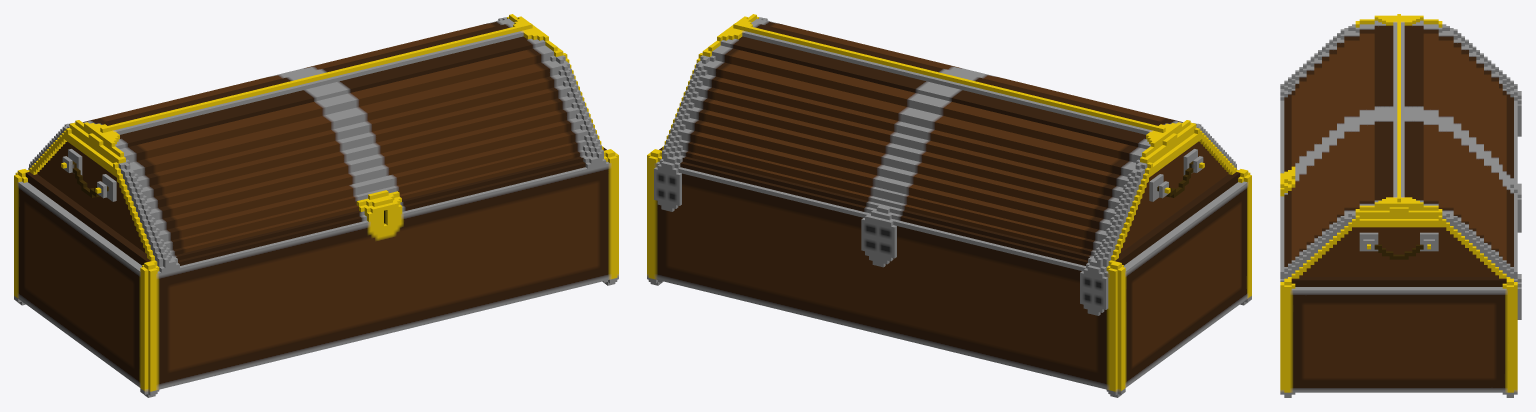
The model's file is Chest.fbx.
3 views of the same model, side by side, from view 1: azimuth 30°, elevation 25°; view 2: azimuth 150°, elevation 25°; view 3: azimuth 270°, elevation 25° (orthographic). The views are drawn at different scales.
Visible parts, largest first — view 1: Matrix; view 2: Matrix; view 3: Matrix.
Part boxes in pixels (x1,y1,x2,y2): Matrix: (14,14,618,397); Matrix: (647,14,1251,397); Matrix: (1280,14,1521,397).
Bounding box in the file's own units: 128 × 56 × 64.
1 material, 1 textured.
